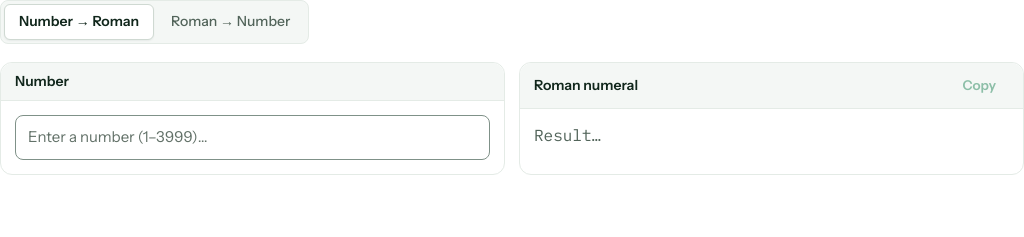
Scenario: RomanNumerals › converts 2024 to MMXXIV
In the field with placeholder "Enter a number (1–3999)…": {"x": 252, "y": 138} x1=15 y1=115 x2=490 y2=160, type "2024"
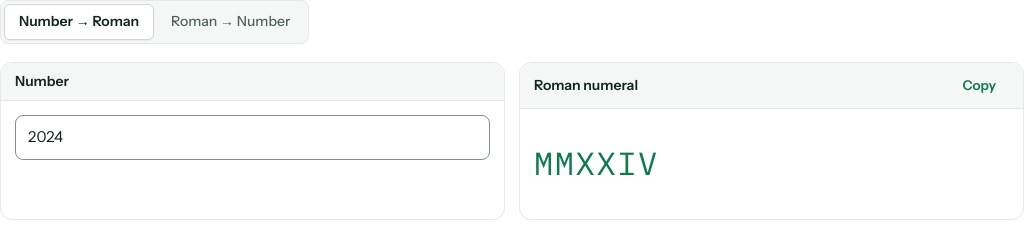
Expected: the text "MMXXIV" is shown, x1=534 y1=142 x2=659 y2=184
